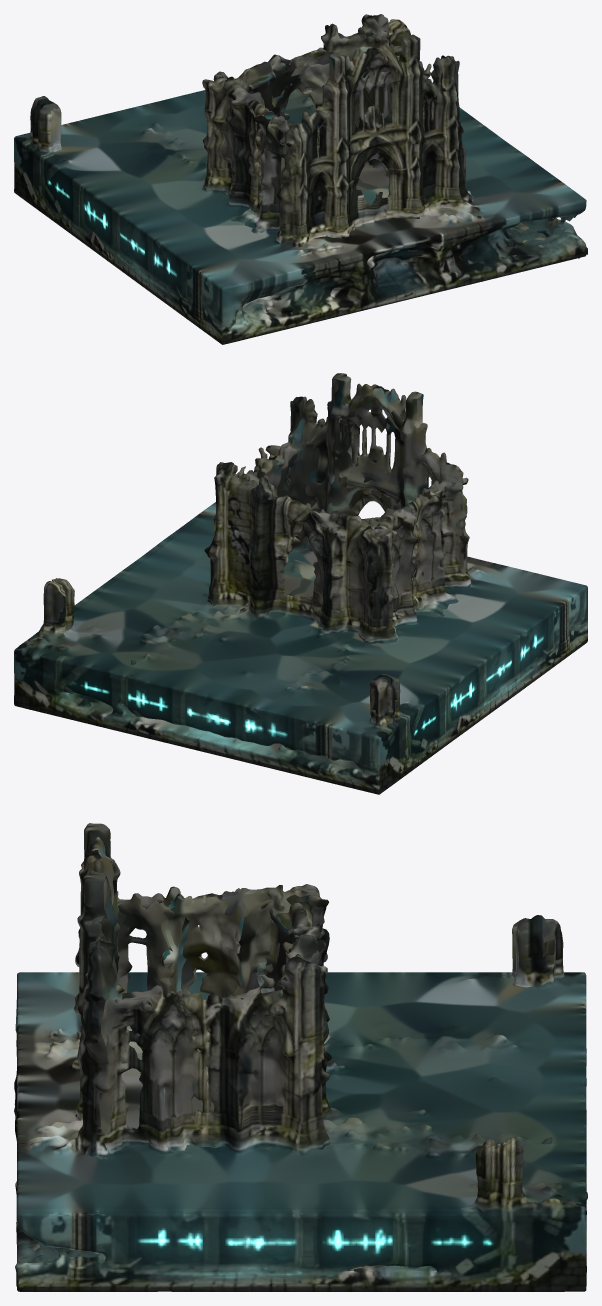
File: struct_sunken_nave.glb
The picture shows the model from 3 angles, top to bottom: view 1: azimuth 30°, elevation 25°; view 2: azimuth 150°, elevation 25°; view 3: azimuth 270°, elevation 25°; orthographic projection. The views are drawn at different scales.
Parts seen in each view (by area): view 1: geometry_0; view 2: geometry_0; view 3: geometry_0.
Part boxes in pixels (x1,y1,x2,y2): geometry_0: (14, 14, 587, 344); geometry_0: (14, 373, 587, 794); geometry_0: (14, 823, 587, 1291).
Size of the model in its own units: 22.86 by 14.01 by 22.68.
1 material, 1 textured.
